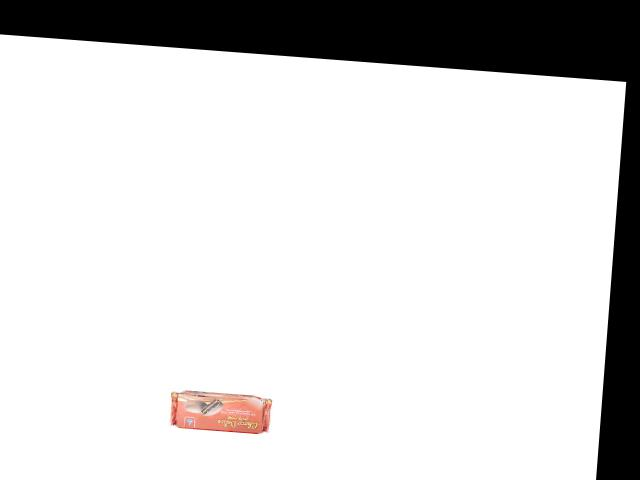chocolate: (166, 380, 274, 435)
